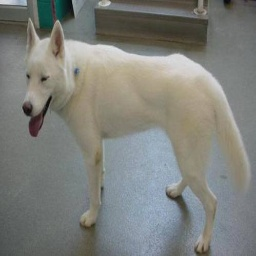dog: (16, 17, 249, 253)
